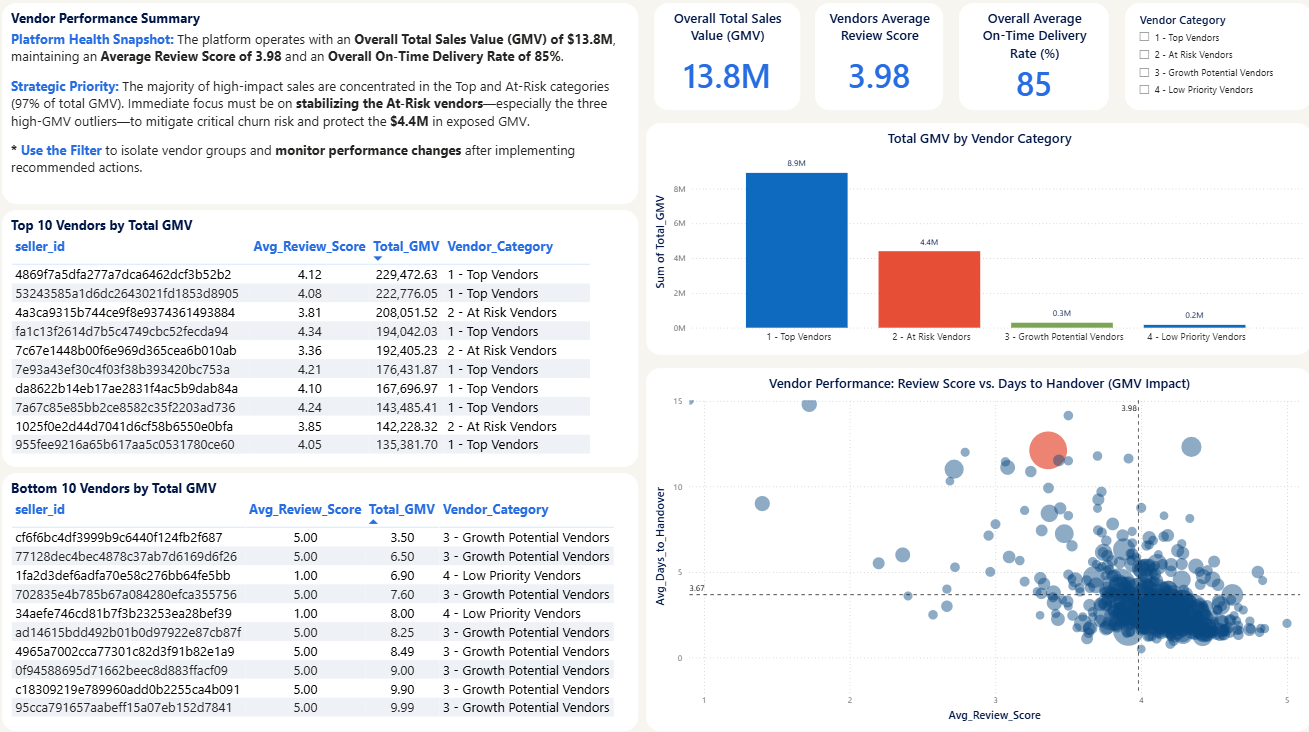

The page's visual inventory and layout, read from the dashboard file:
{"tool":"powerbi","page":{"name":"Page 1","canvas":[1920,1080],"ordinal":0},"visuals":[{"type":"textbox","title":"Vendor Performance Summary","box":[18.6,18.6,908.6,287.1],"z":0},{"type":"card","title":"Overall Total Sales Value (GMV)","fields":{"Values":["Sum(vendor_category_tbl (2).Total_GMV)"]},"box":[949.6,18.6,208.6,152.9],"z":1000},{"type":"card","title":"Vendors Average Review Score","fields":{"Values":["Avg(vendor_category_tbl (2).Avg_Review_Score)"]},"box":[1180.7,18.6,182.9,152.9],"z":2000},{"type":"card","title":"Overall Average On-Time Delivery Rate (%)","fields":{"Values":["Avg(vendor_category_tbl (2).On_Time_Delivery_Rate_Pct)"]},"box":[1386.1,18.6,214.3,152.9],"z":3000},{"type":"tableEx","title":"Top 10 Vendors by Total GMV","fields":{"Values":["vendor_category_tbl (2).seller_id","vendor_category_tbl (2).Avg_Review_Score","vendor_category_tbl (2).Total_GMV","vendor_category_tbl (2).Vendor_Category"]},"box":[18.6,314.3,908.6,367.1],"z":4000},{"type":"tableEx","title":"Bottom 10 Vendors by Total GMV","fields":{"Values":["vendor_category_tbl (2).seller_id","vendor_category_tbl (2).Avg_Review_Score","vendor_category_tbl (2).Total_GMV","vendor_category_tbl (2).Vendor_Category"]},"box":[18.6,690,908.6,368.6],"z":5000},{"type":"clusteredColumnChart","title":"Total GMV by Vendor Category","fields":{"Y":["Sum(vendor_category_tbl (2).Total_GMV)"],"Category":["vendor_category_tbl (2).Vendor_Category"]},"box":[938.6,190,951.4,331.4],"z":6000},{"type":"scatterChart","title":"Vendor Performance: Review Score vs. Days to Handover (GMV Impact)","fields":{"X":["vendor_category_tbl (2).Avg_Review_Score"],"Size":["Sum(vendor_category_tbl (2).Total_GMV)"],"Y":["vendor_category_tbl (2).Avg_Days_to_Handover"]},"box":[938.6,540,951.4,518.6],"z":7000},{"type":"slicer","fields":{"Values":["vendor_category_tbl (2).Vendor_Category"]},"box":[1622.9,18.6,267.1,152.9],"z":8000}]}

Visuals, with their boxes in screenshot pixels (x1, y1, x2, y2), scaled from the page's 1920x1080 canvas onto the 1309x732 screenshot:
"Vendor Performance Summary" textbox: [x1=13, y1=13, x2=632, y2=207]
"Overall Total Sales Value (GMV)" card: [x1=647, y1=13, x2=790, y2=116]
"Vendors Average Review Score" card: [x1=805, y1=13, x2=930, y2=116]
"Overall Average On-Time Delivery Rate (%)" card: [x1=945, y1=13, x2=1091, y2=116]
"Top 10 Vendors by Total GMV" tableEx: [x1=13, y1=213, x2=632, y2=462]
"Bottom 10 Vendors by Total GMV" tableEx: [x1=13, y1=468, x2=632, y2=717]
"Total GMV by Vendor Category" clusteredColumnChart: [x1=640, y1=129, x2=1289, y2=353]
"Vendor Performance: Review Score vs. Days to Handover (GMV Impact)" scatterChart: [x1=640, y1=366, x2=1289, y2=717]
slicer - vendor_category_tbl (2).Vendor_Category: [x1=1106, y1=13, x2=1289, y2=116]
